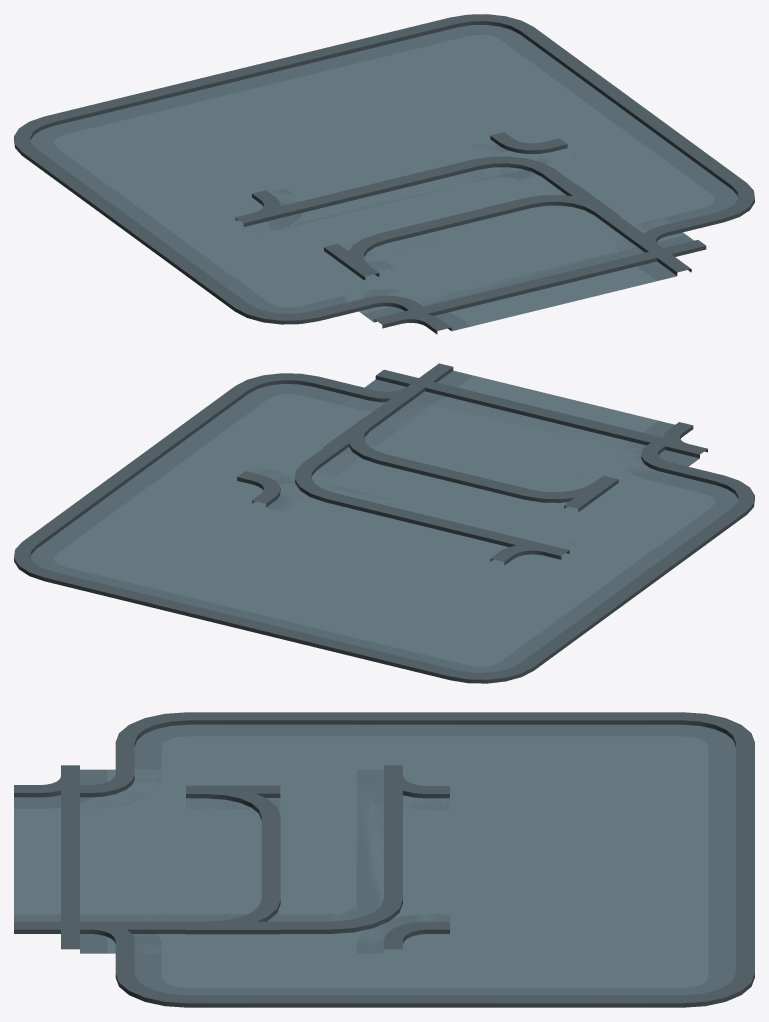
File: Road.fbx
The picture shows the model from 3 angles, top to bottom: view 1: azimuth 30°, elevation 25°; view 2: azimuth 150°, elevation 25°; view 3: azimuth 270°, elevation 25°; orthographic projection. The views are drawn at different scales.
Visible parts, largest first — view 1: Road Store Ground, Road Triple, Road Corner, Road End, Road; view 2: Road Store Ground, Road Corner, Road Triple, Road, Road End; view 3: Road Store Ground, Road Corner, Road Triple, Road, Road End.
Part boxes in pixels (x1,y1,x2,y2): Road Store Ground: (14,14,754,324); Road Triple: (245,132,706,327); Road Corner: (235,156,691,334); Road End: (347,195,610,279); Road: (324,185,618,279); Road Store Ground: (14,373,754,683); Road Corner: (295,363,707,559); Road Triple: (237,369,701,565); Road: (324,417,618,511); Road End: (347,417,615,502); Road Store Ground: (68,712,754,1007); Road Corner: (14,765,402,933); Road Triple: (61,766,449,953); Road: (186,785,280,934); Road End: (186,786,280,929).
Bounding box in the file's own units: 1463 × 10.24 × 1575.
